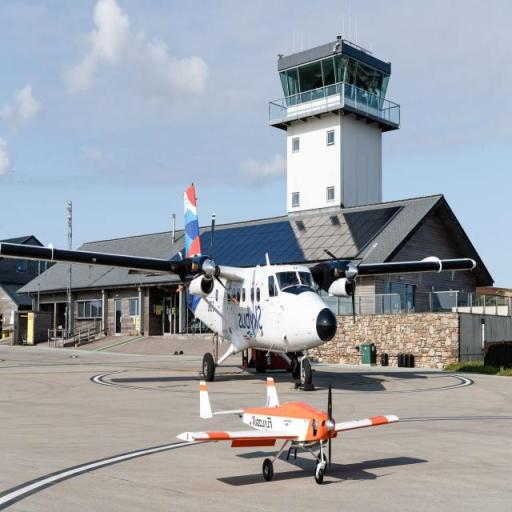uav: (171, 375, 398, 483)
